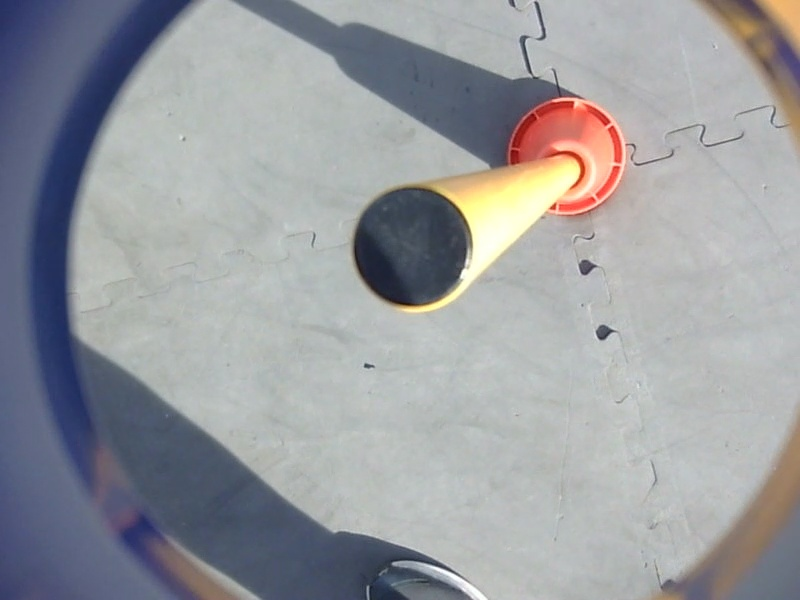tip: (343, 179, 483, 321)
